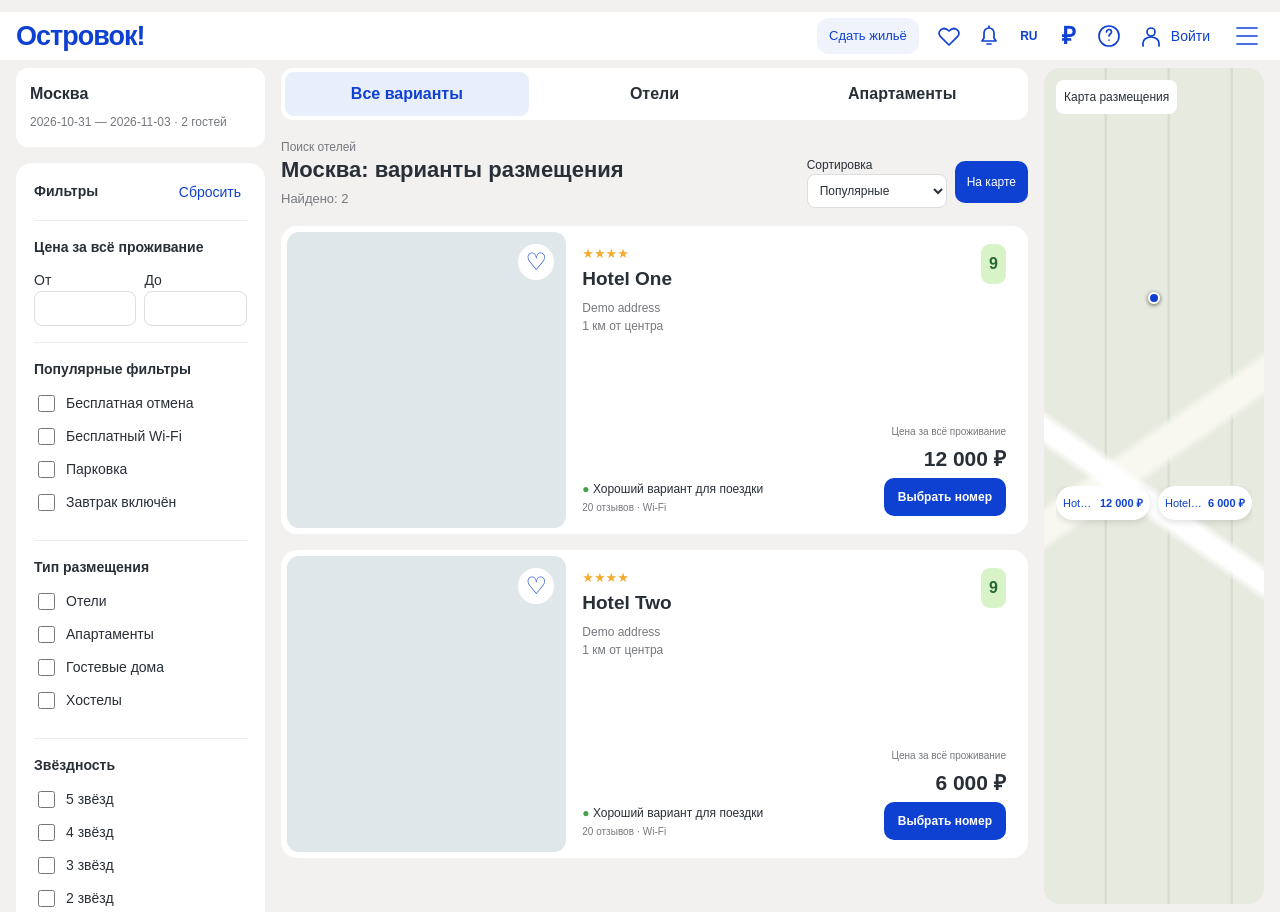
search results › composes filters, shows live counts, and resets an empty result
Check: the link "Hotel One" is shown, box [582,266,672,291]
Click the checkbox labelled "Апартаменты". click: click(46, 634)
box: [38,626,55,643]
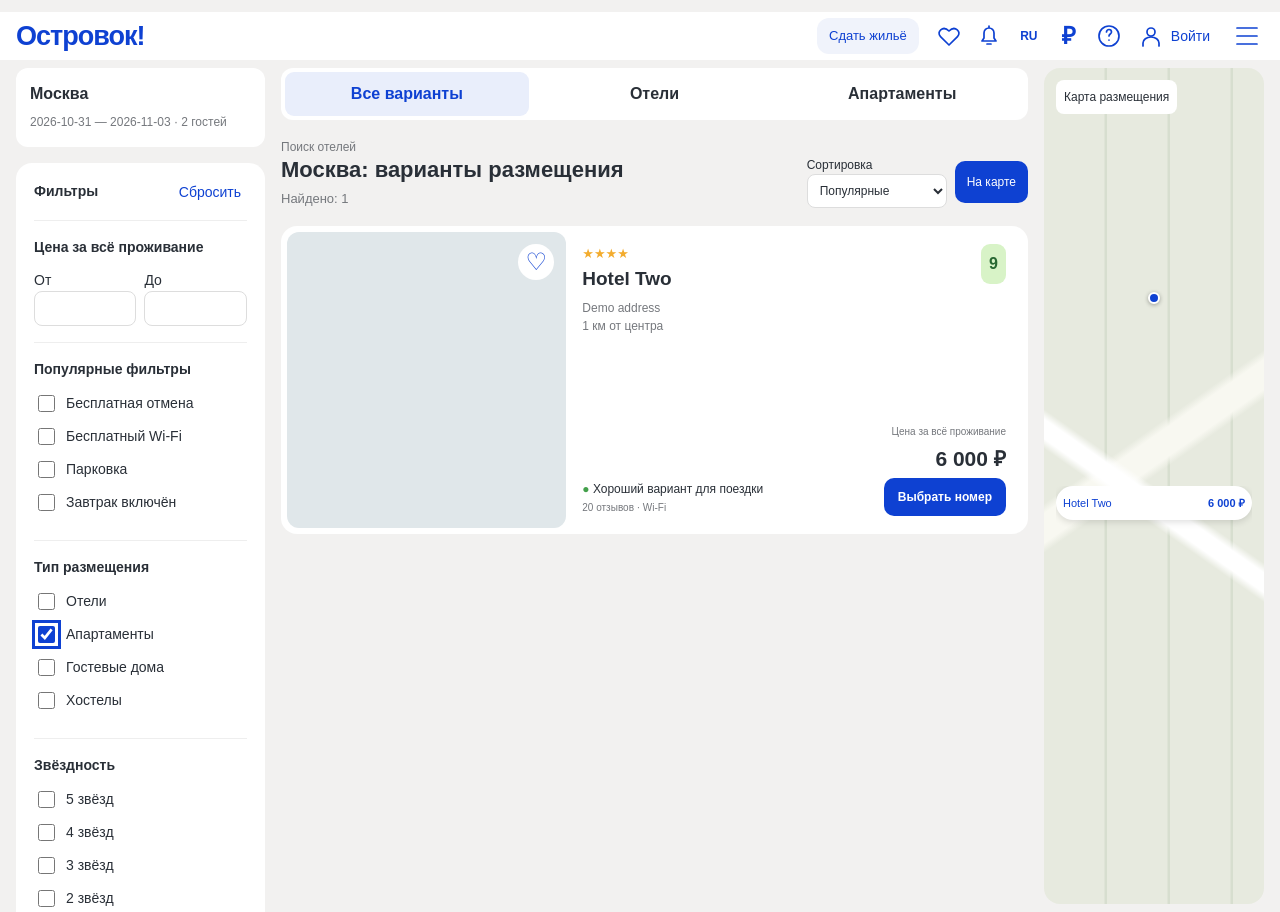
Check: the text "Найдено: 1" is shown, box [281,190,349,206]
Click the checkbox labelled "Бесплатная отмена". click: click(46, 404)
box: [38,395,55,412]
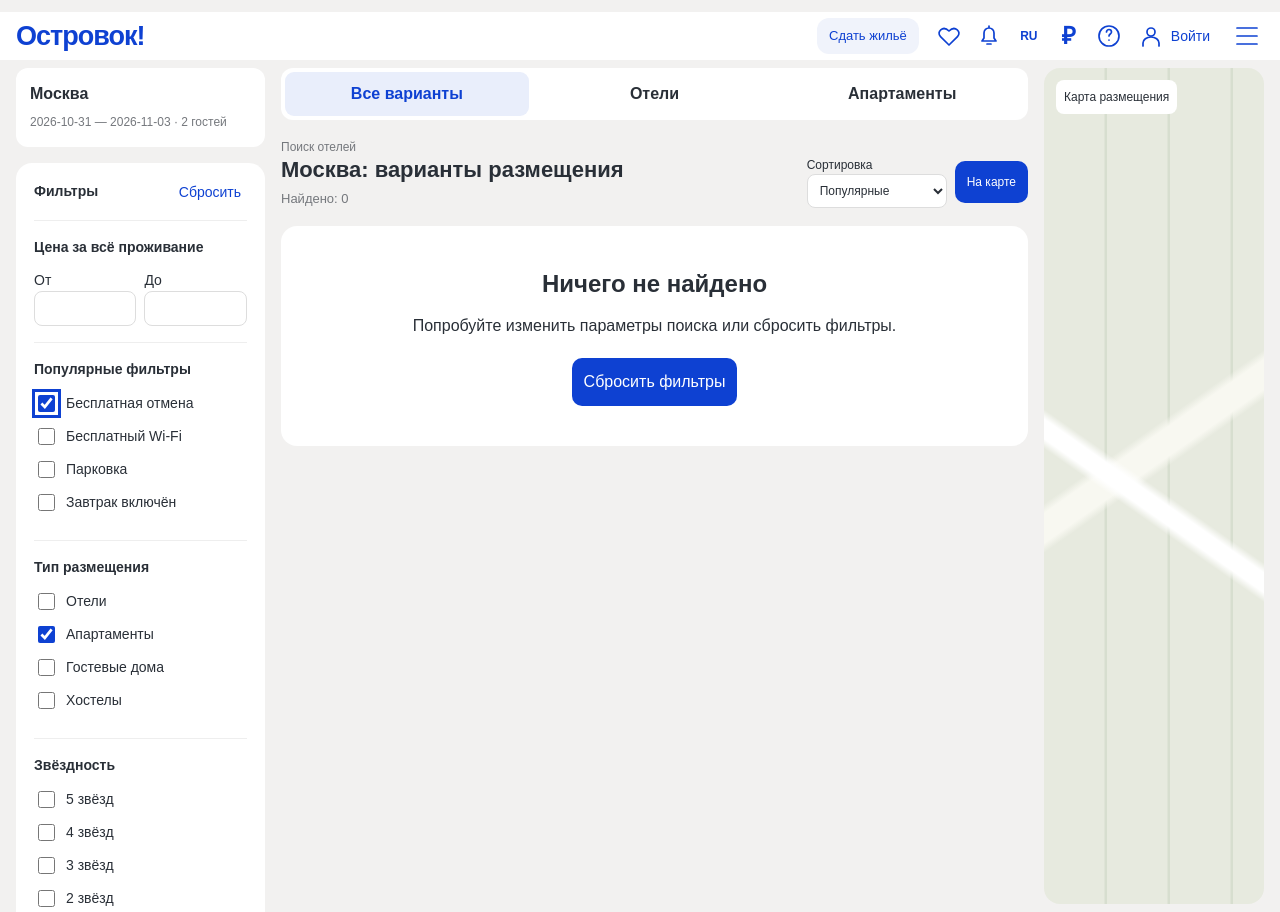
Check: the heading "Ничего не найдено" is shown, box [542,270,767,297]
Click the button "Сбросить фильтры". click: click(654, 382)
box: [572,358,737,406]
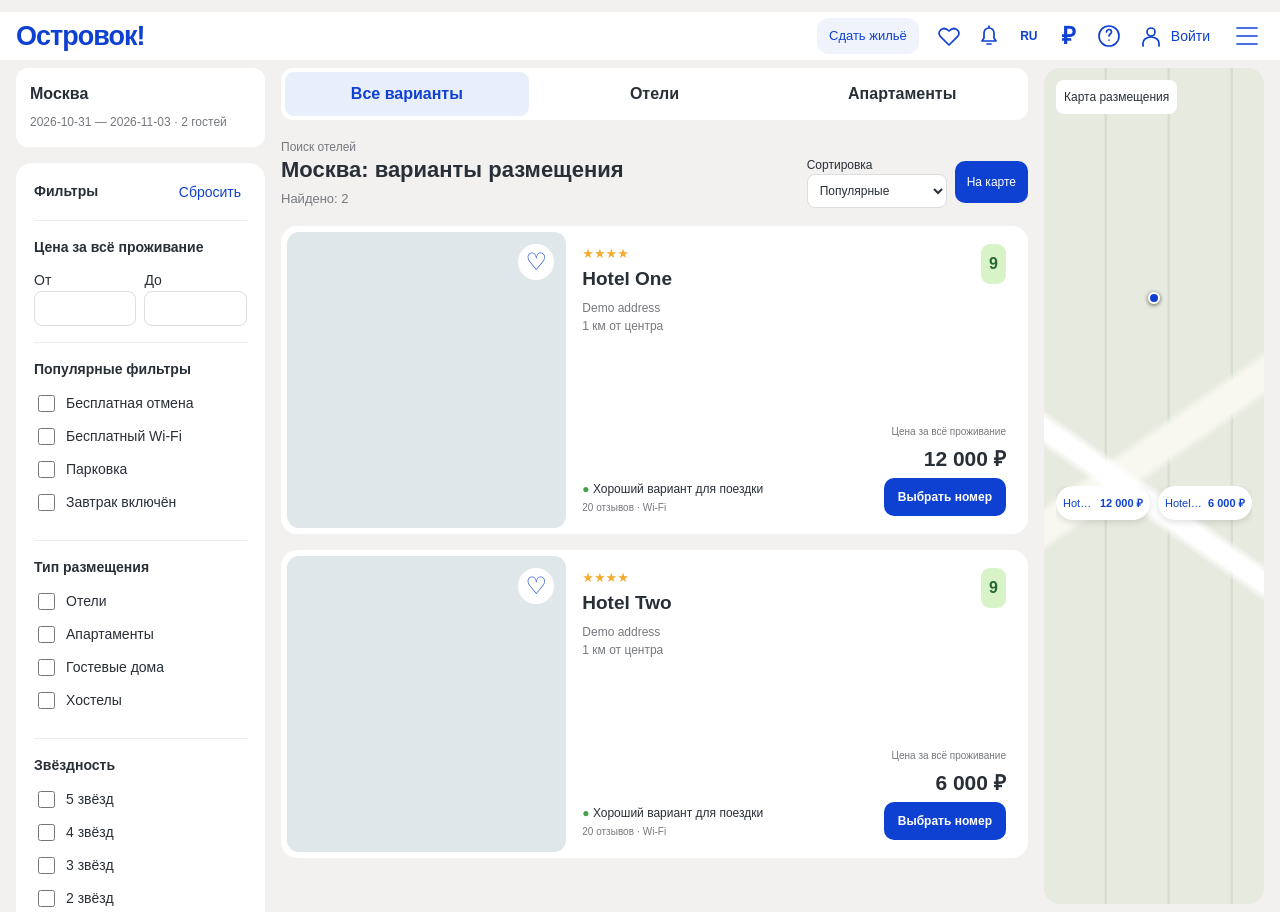
Check: the text "Найдено: 2" is shown, box [281,190,349,206]
